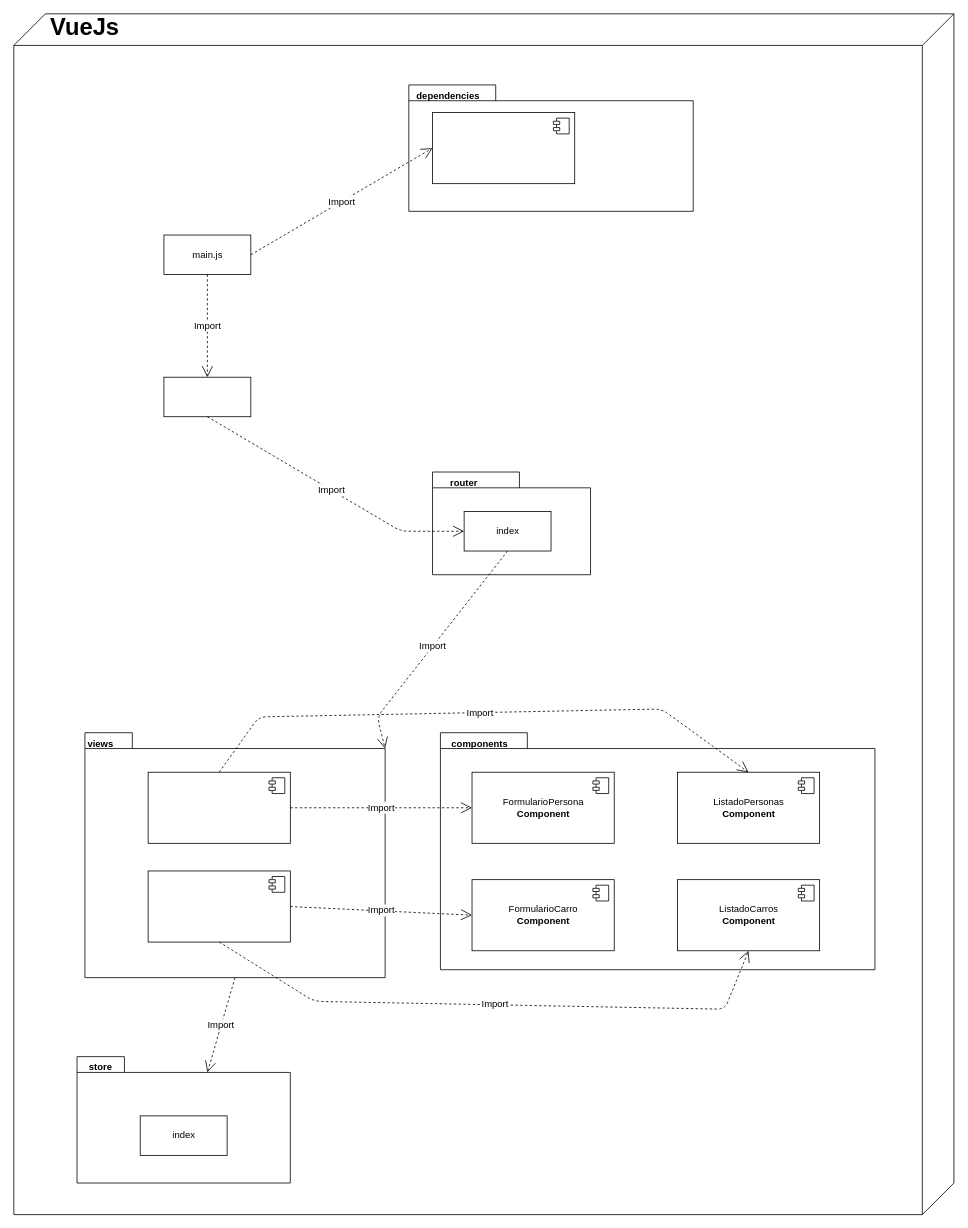
This 968x1228 diagram has some shape labels left out. The centre of each missing label's shape, as x and y in pixels:
"App" goes at (207,396).
"Carro Component" goes at (218,906).
"Persona Component" goes at (218,807).
"Vuetify Component" goes at (503,148).
